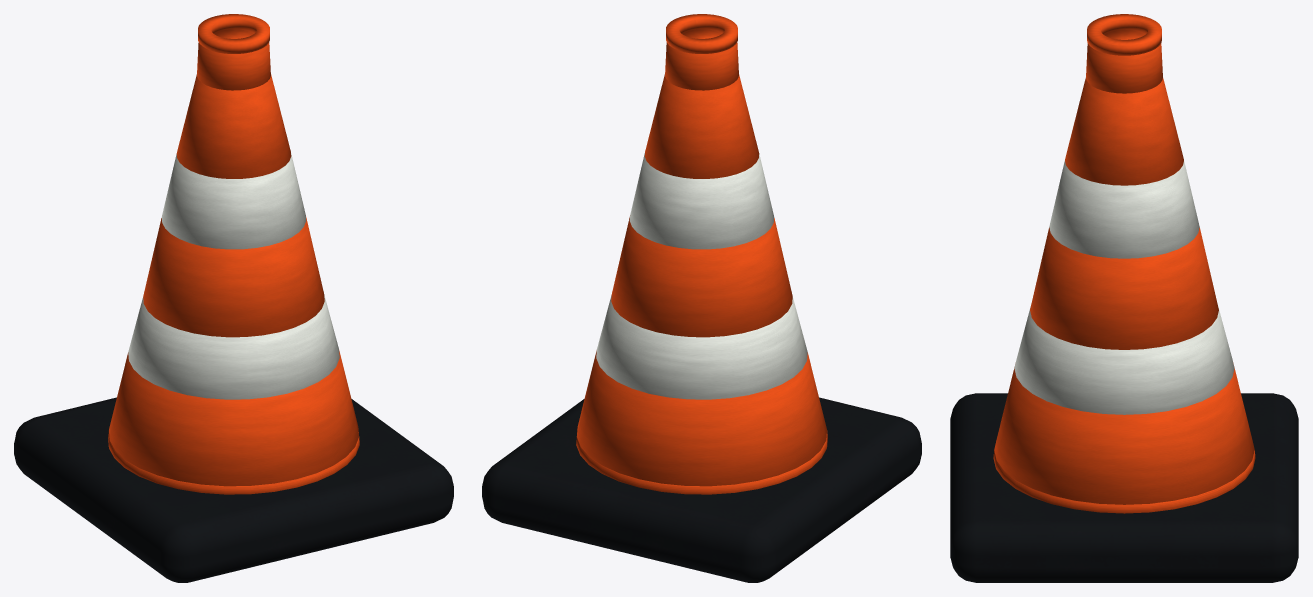
The model's file is CSE_TrafficCone.fbx.
3 renders of one model, left to right at view 1: azimuth 30°, elevation 25°; view 2: azimuth 150°, elevation 25°; view 3: azimuth 270°, elevation 25°, orthographic. The views are drawn at different scales.
Parts seen in each view (by area): view 1: CSE_TrafficCone; view 2: CSE_TrafficCone; view 3: CSE_TrafficCone.
Boxes of the visible parts, <box> form: CSE_TrafficCone: <box>14,14,453,582</box>; CSE_TrafficCone: <box>482,14,921,582</box>; CSE_TrafficCone: <box>950,14,1298,582</box>.
Size of the model in its own units: 38 by 58.7 by 38.
